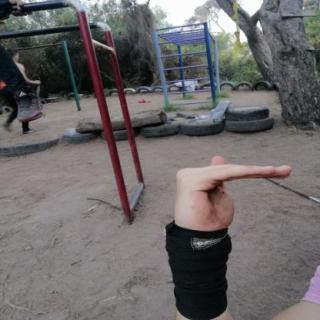KHAA: (160, 148, 308, 245)
